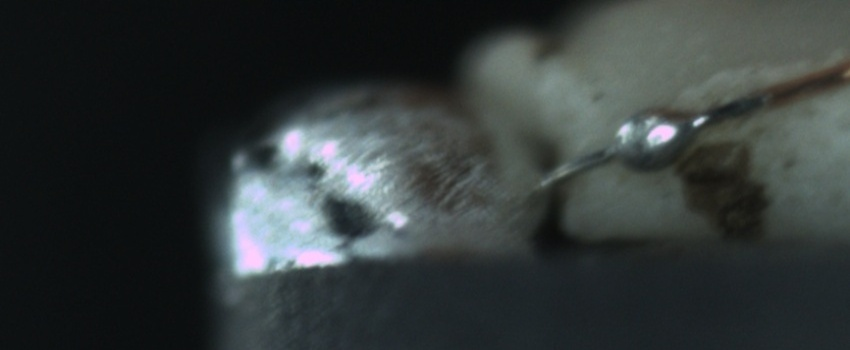TB: (602, 99, 696, 179)
TS: (521, 87, 767, 195)
TTCW: (525, 60, 809, 197)
